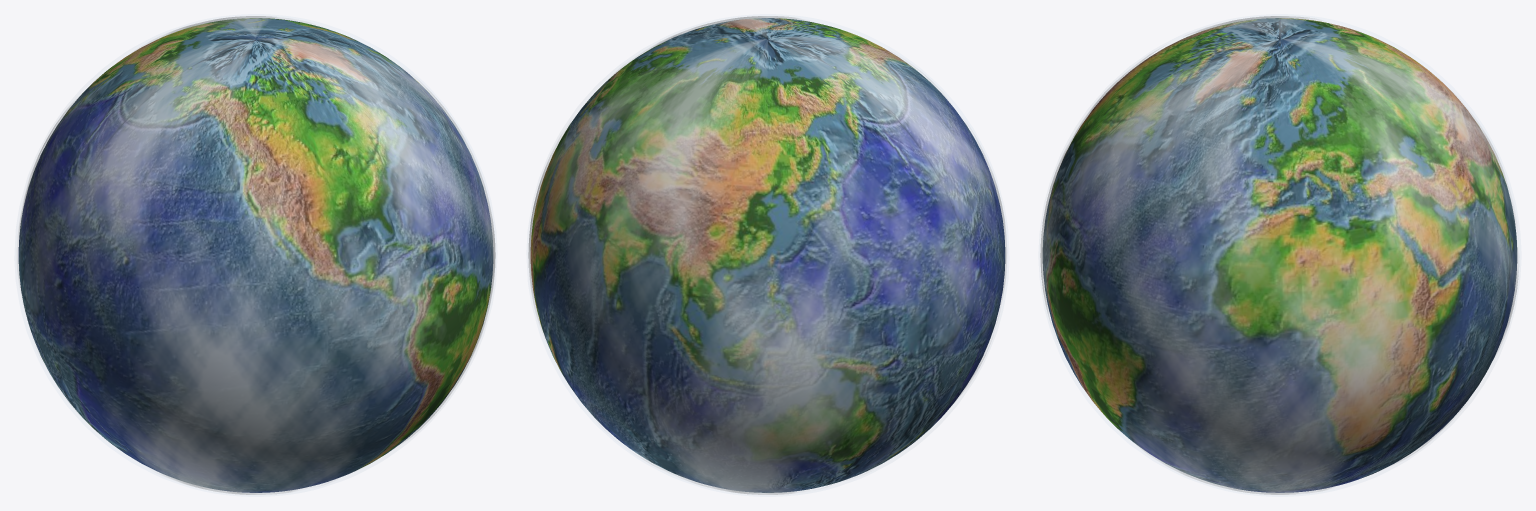
Rendered from earth.glb.
The picture shows the model from 3 angles, left to right: view 1: azimuth 30°, elevation 25°; view 2: azimuth 150°, elevation 25°; view 3: azimuth 270°, elevation 25°; orthographic projection.
Visible parts, largest first — view 1: earth | body, Earth | clouds; view 2: earth | body, Earth | clouds; view 3: earth | body, Earth | clouds.
Part boxes in pixels (box(x1,y1,x2,y2)): earth | body: box(18, 18, 493, 492); Earth | clouds: box(17, 16, 495, 494); earth | body: box(530, 18, 1005, 492); Earth | clouds: box(528, 16, 1006, 494); earth | body: box(1042, 18, 1517, 492); Earth | clouds: box(1040, 16, 1518, 494).
Size of the model in its own units: 2.04 by 2.04 by 2.04.
Materials: 3 (2 with a texture image).
